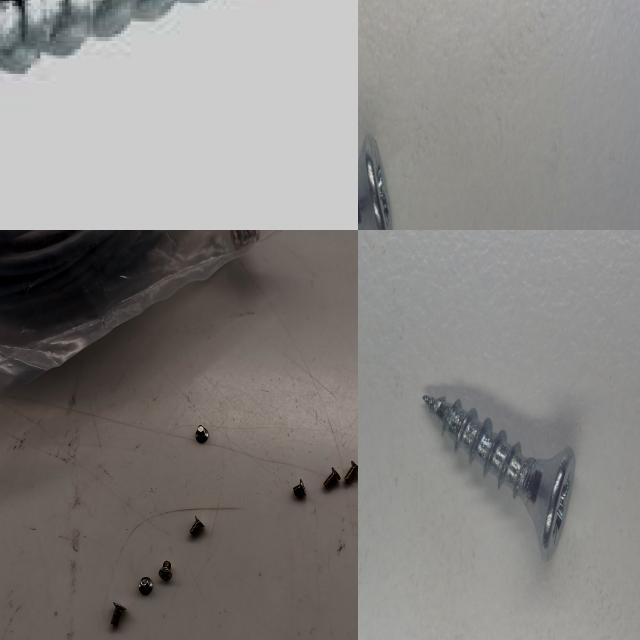Screw: (417, 394, 576, 566), (358, 135, 392, 230), (107, 599, 128, 631), (321, 465, 342, 493), (157, 556, 174, 584), (188, 513, 205, 540), (136, 573, 155, 596), (343, 458, 358, 485), (291, 478, 307, 499), (194, 424, 210, 444)
